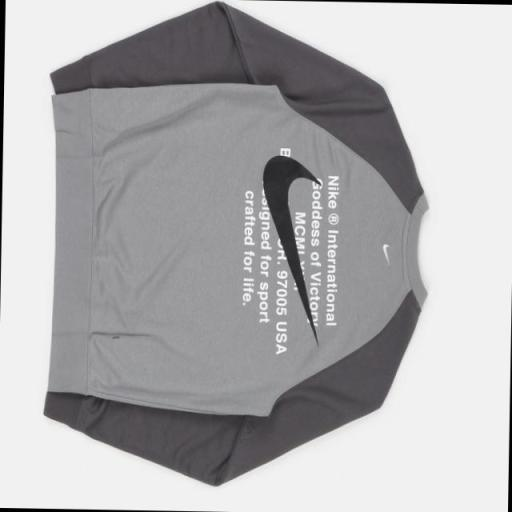Nike: (258, 155, 324, 343)
